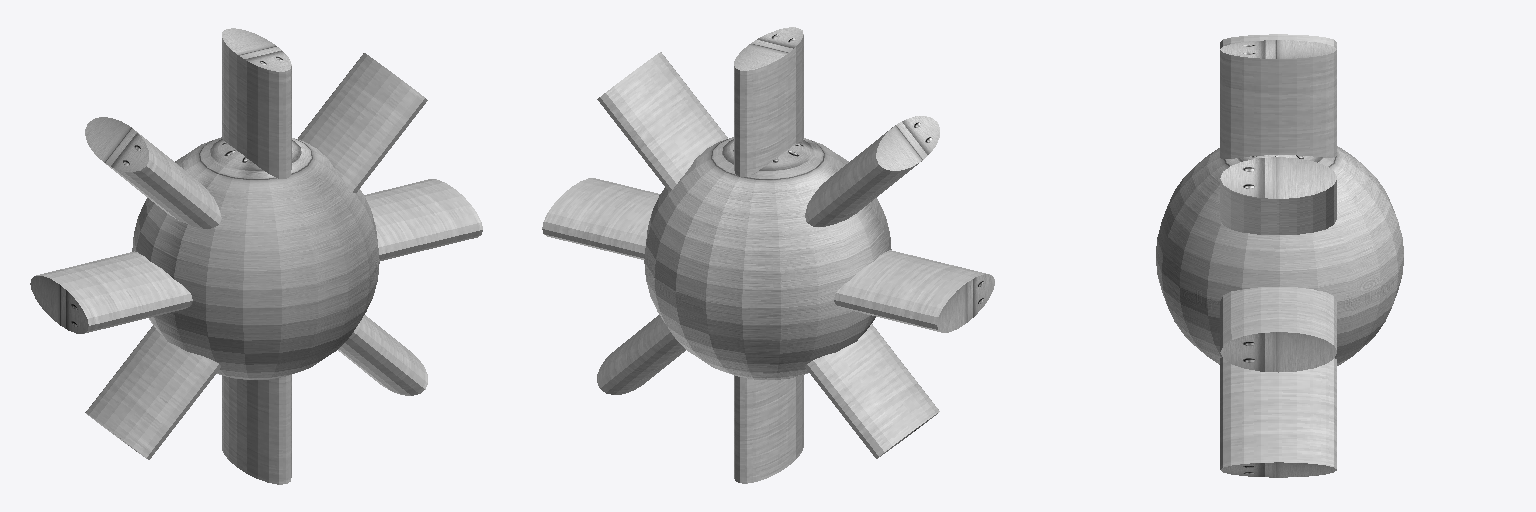
3 renders of one model, left to right at view 1: azimuth 30°, elevation 25°; view 2: azimuth 150°, elevation 25°; view 3: azimuth 270°, elevation 25°, orthographic.
Visible parts, largest first — view 1: Valvula:pSphere2; view 2: Valvula:pSphere2; view 3: Valvula:pSphere2.
Boxes of the visible parts, x1,y1,x2,y2 form: Valvula:pSphere2: [30, 28, 482, 484]; Valvula:pSphere2: [542, 27, 994, 483]; Valvula:pSphere2: [1156, 34, 1403, 477].
Size of the model in its own units: 3.76 by 3.76 by 2.05.
Materials: 1 (1 with a texture image).